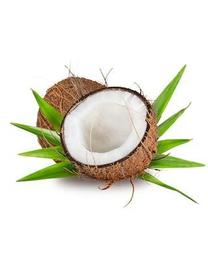coconut: (61, 88, 155, 179), (35, 77, 119, 168)
